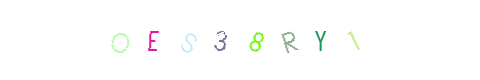1: (280, 0, 360, 80)
3: (181, 0, 261, 80)
8: (200, 0, 280, 80)
E: (175, 0, 255, 80)
O: (111, 0, 191, 80)
R: (216, 0, 296, 80)
S: (180, 0, 260, 80)
Y: (244, 0, 324, 80)
